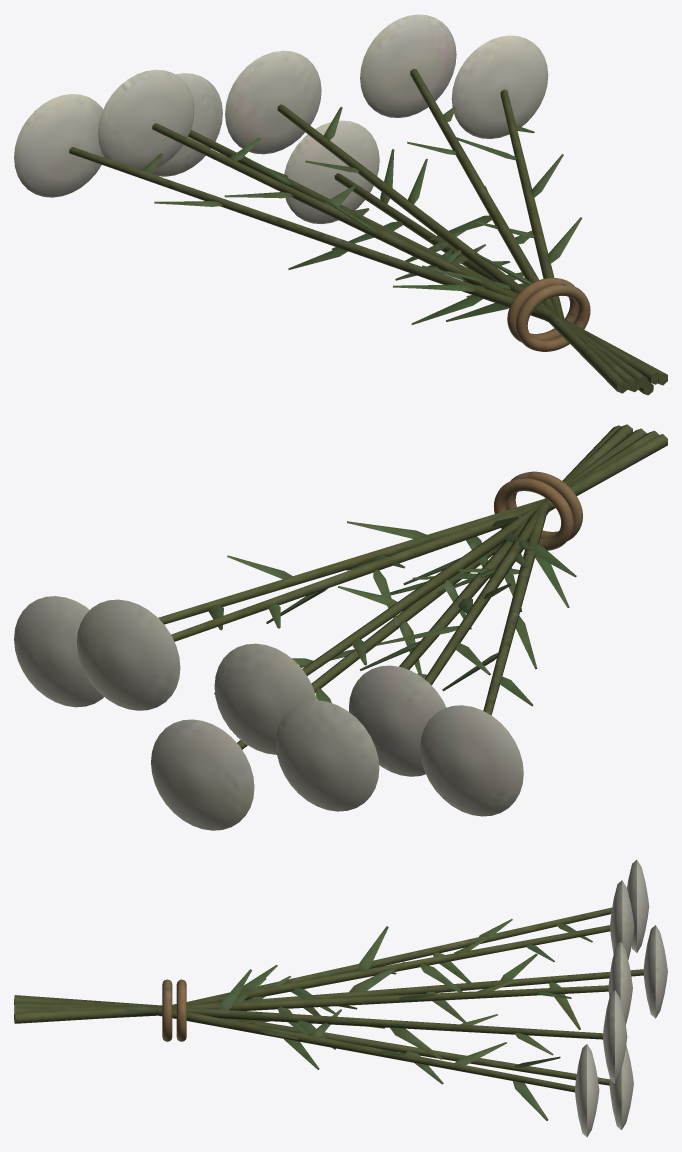
File: yarrow.glb
3 renders of one model, top to bottom at view 1: azimuth 30°, elevation 25°; view 2: azimuth 150°, elevation 25°; view 3: azimuth 270°, elevation 25°, orthographic. The views are drawn at different scales.
Parts seen in each view (by area): view 1: yarrow; view 2: yarrow; view 3: yarrow.
Part boxes in pixels (x1,y1,x2,y2): yarrow: (14, 14, 667, 395); yarrow: (14, 424, 667, 830); yarrow: (14, 859, 667, 1137).
Bounding box in the file's own units: 0.1368 × 0.0509 × 0.1821.
1 material, 1 textured.
